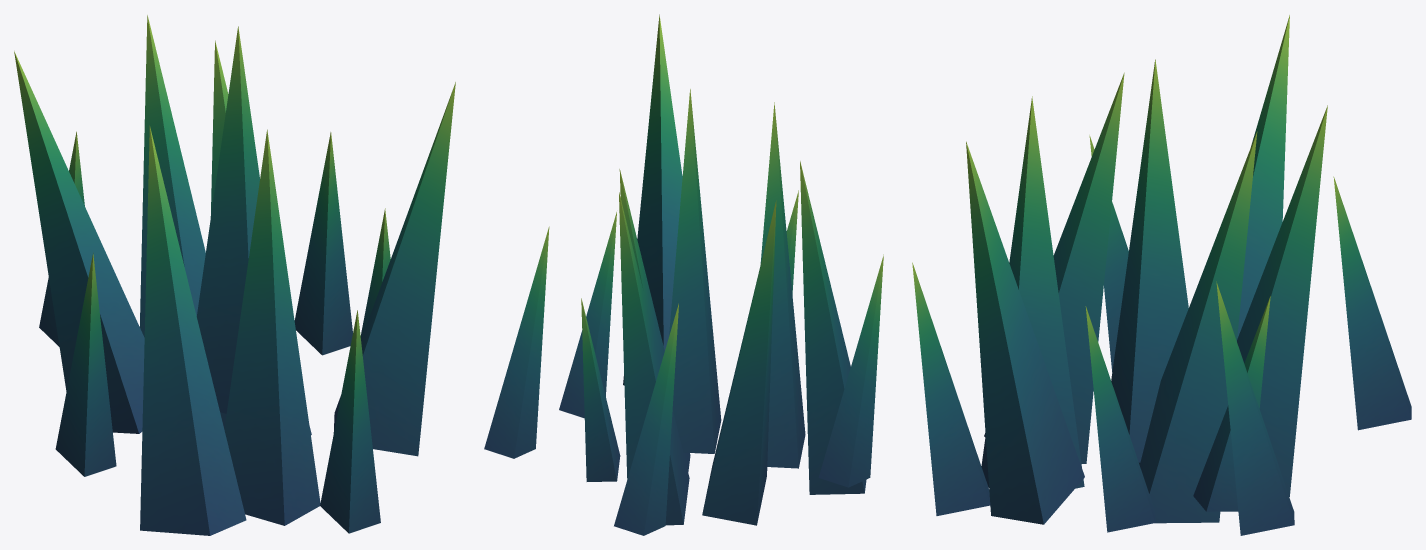
Rendered from THE GREAT GRASS TEST KILL ME.fbx.
The picture shows the model from 3 angles, left to right: view 1: azimuth 30°, elevation 25°; view 2: azimuth 150°, elevation 25°; view 3: azimuth 270°, elevation 25°; orthographic projection. The views are drawn at different scales.
Parts seen in each view (by area): view 1: Grass_LightTip; view 2: Grass_LightTip; view 3: Grass_LightTip.
Part boxes in pixels (box(x1,y1,x2,y2)): Grass_LightTip: box(14, 15, 455, 535); Grass_LightTip: box(484, 14, 883, 535); Grass_LightTip: box(912, 15, 1411, 535).
Bounding box in the file's own units: 33 × 33.06 × 26.22.
